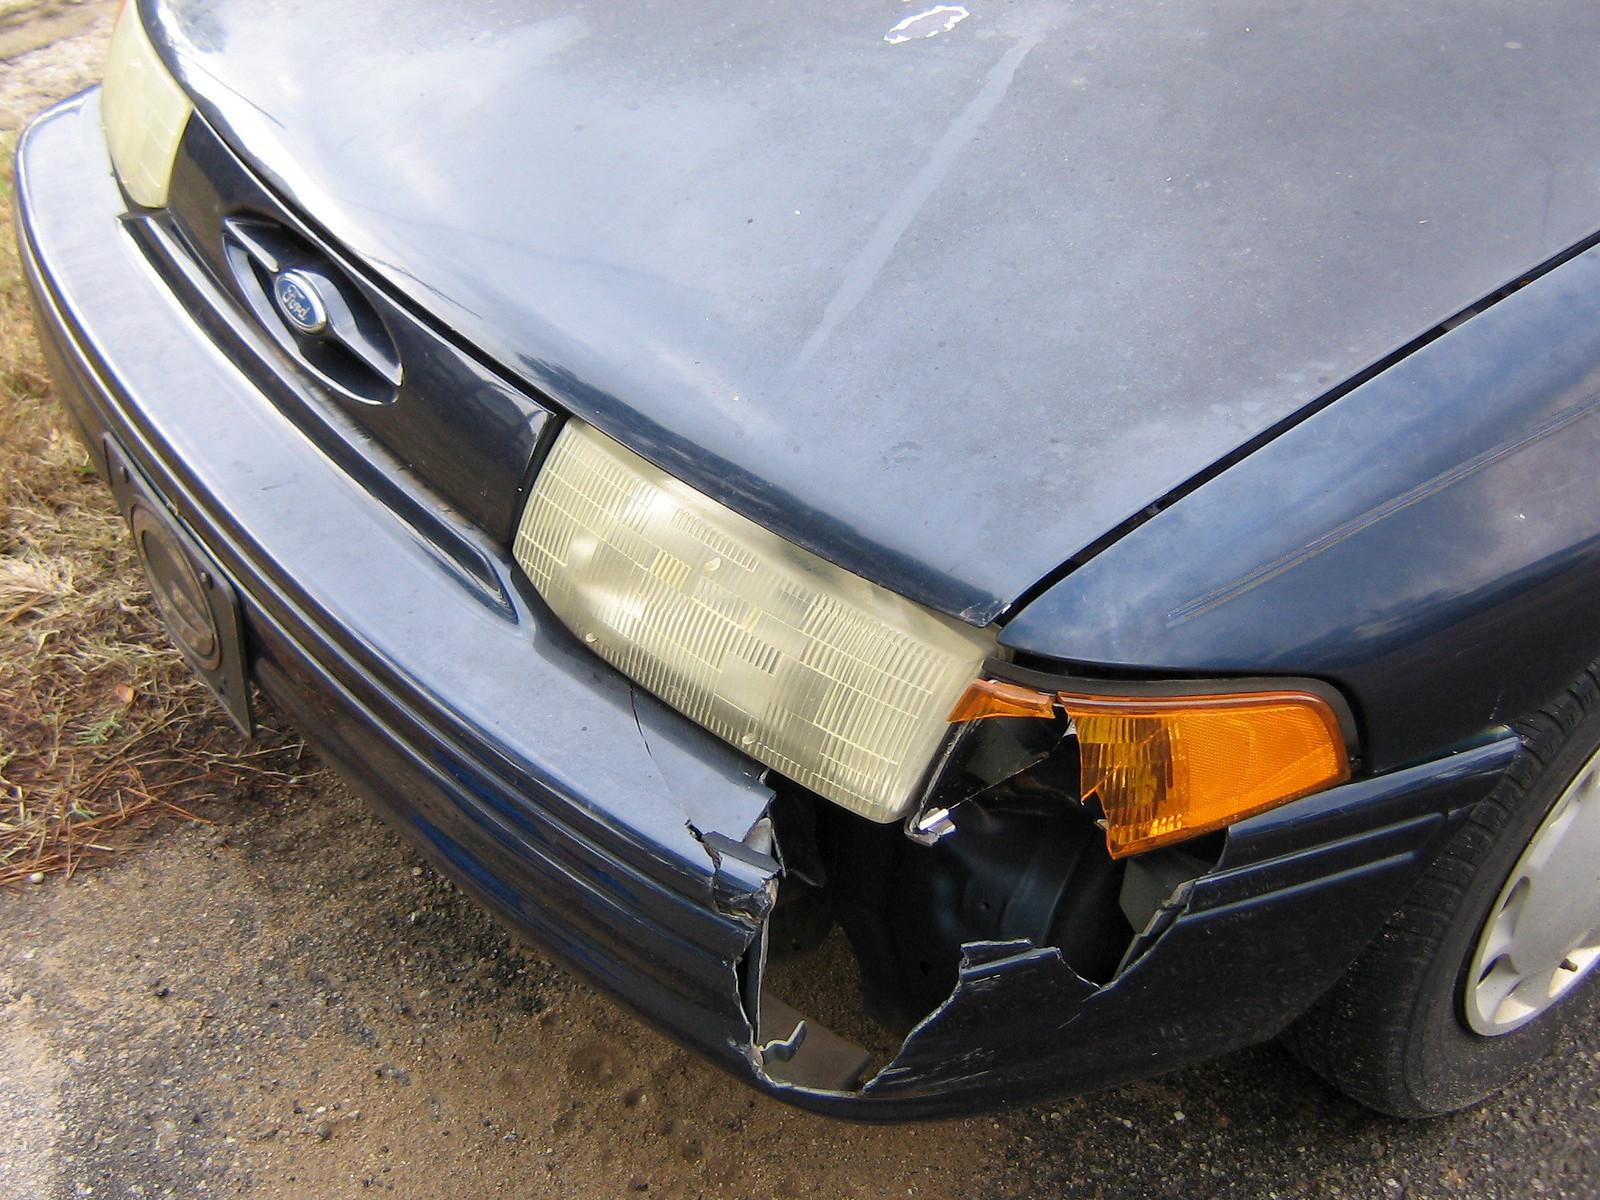Headlight-Damage: (475, 430, 1437, 874)
front-bumper-dent: (285, 730, 1380, 1123)
